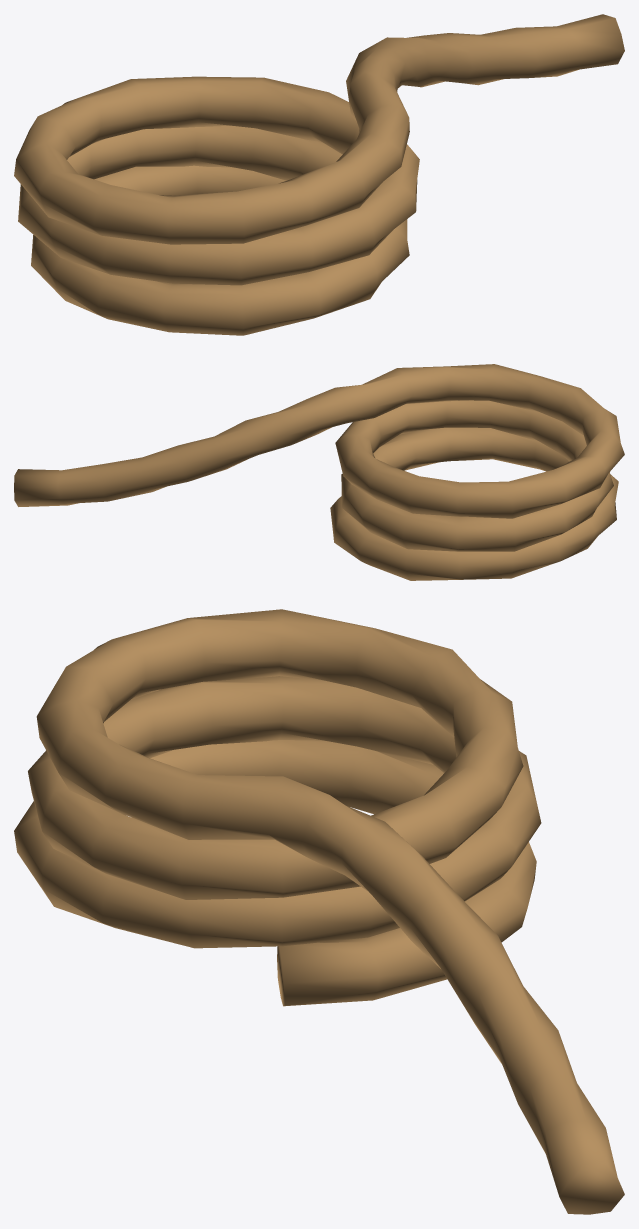
The model's file is coiled-rope_final.glb.
3 renders of one model, top to bottom at view 1: azimuth 30°, elevation 25°; view 2: azimuth 150°, elevation 25°; view 3: azimuth 270°, elevation 25°, orthographic. The views are drawn at different scales.
Parts seen in each view (by area): view 1: SM_CoiledRope; view 2: SM_CoiledRope; view 3: SM_CoiledRope.
Boxes of the visible parts, box(x1,y1,x2,y2) form: SM_CoiledRope: box(14, 14, 624, 335); SM_CoiledRope: box(14, 364, 624, 580); SM_CoiledRope: box(14, 609, 624, 1214).
Size of the model in its own units: 0.6995 by 0.1692 by 0.4142.
